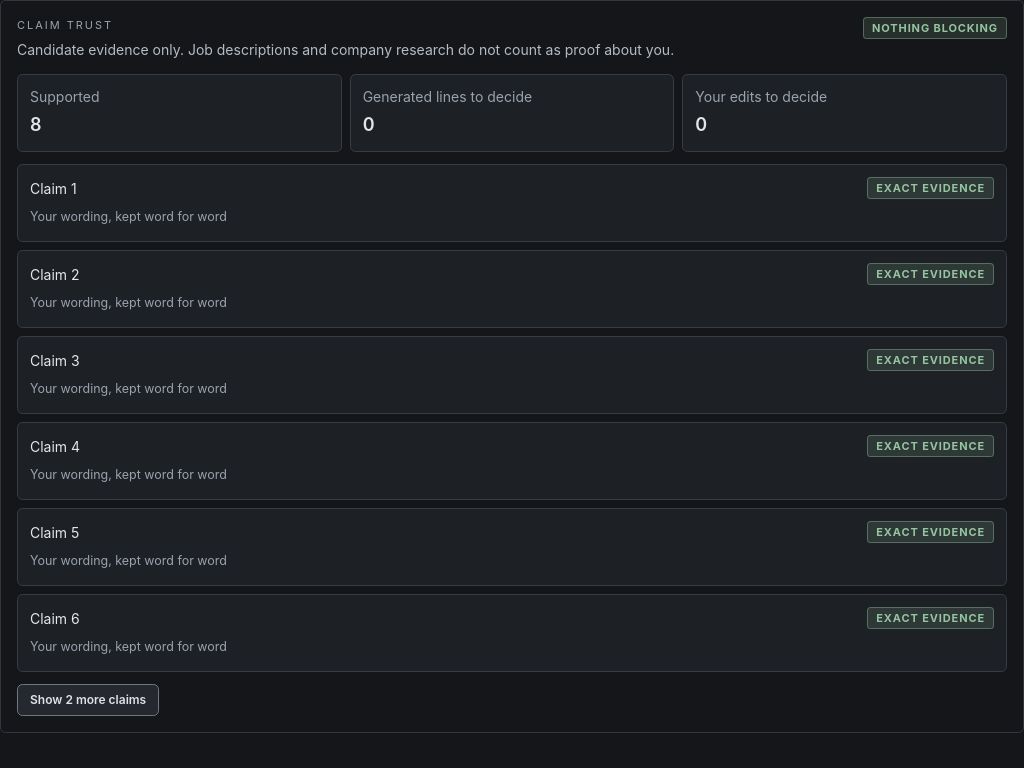
Test: ResumeClaimTrustPanel › limits the initial claim DOM and reveals more on demand
Click the button "Show 2 more claims".
click(88, 700)  # box [17,684,159,716]
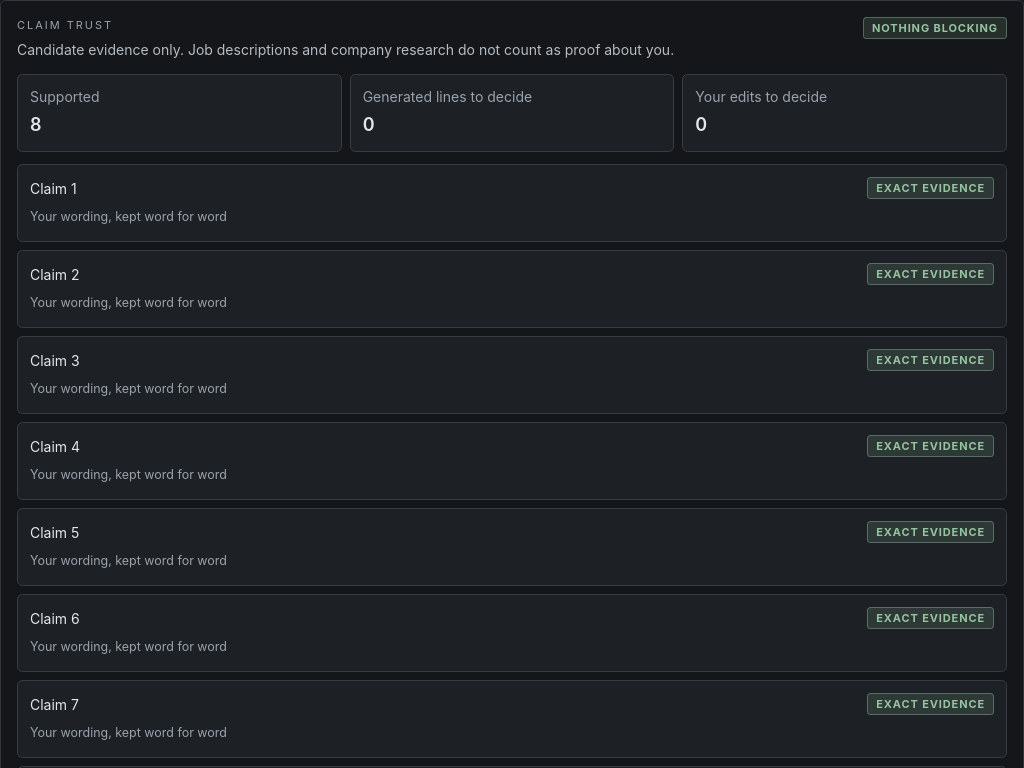
Expected: the text "Show 2 more claims" is gone
